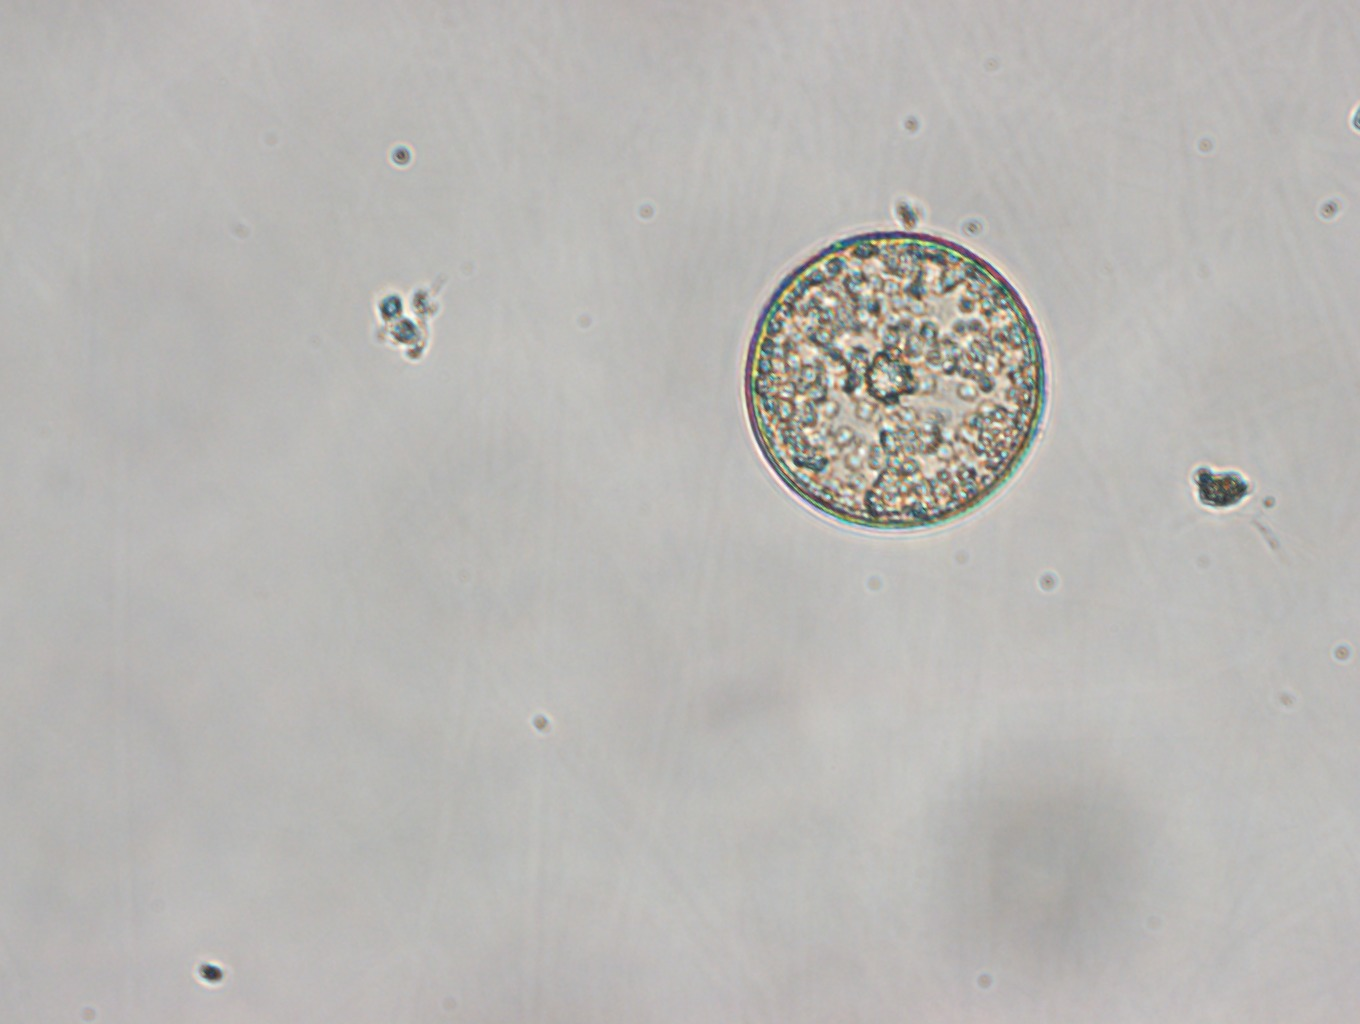coscinodiscus: (741, 229, 1050, 531)
